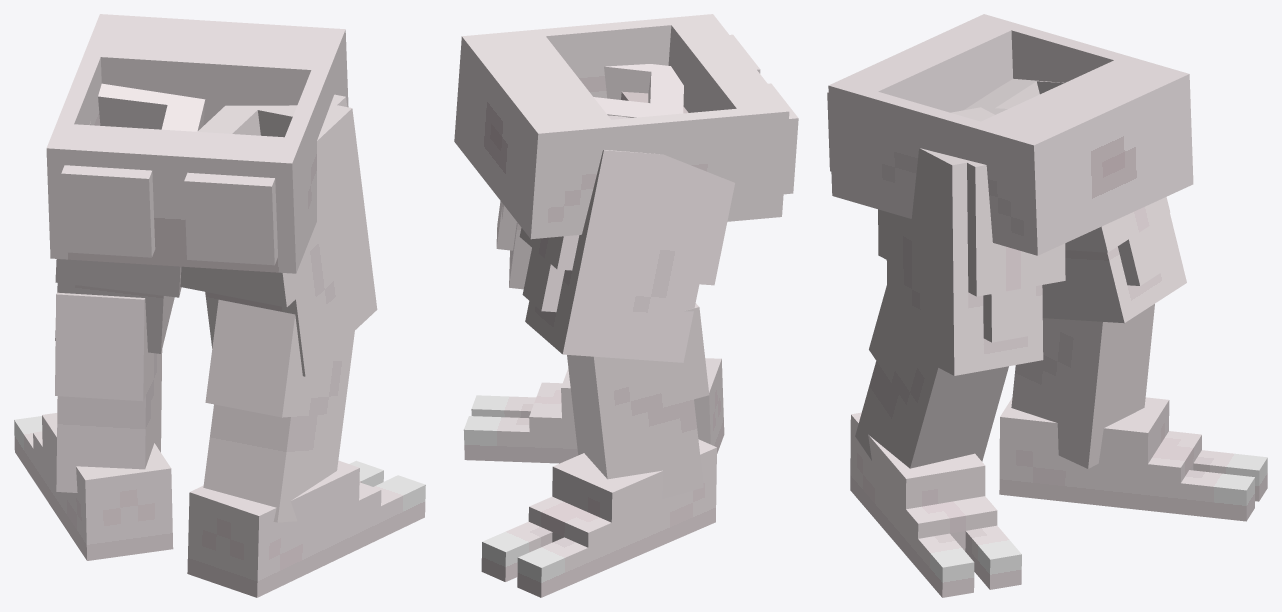
Rendered from 535d9eef-2d12-4f85-8e96-8515db8e4841.gltf.
The picture shows the model from 3 angles, left to right: view 1: azimuth 30°, elevation 25°; view 2: azimuth 150°, elevation 25°; view 3: azimuth 270°, elevation 25°; orthographic projection. The views are drawn at different scales.
Visible parts, largest first — view 1: Equip_Hip-Local, Equip_Right_Leg-Local, Equip_Right_Thigh-Local, Equip_Right_Foot-Local, Equip_Left_Leg-Local, Equip_Left_Foot-Local, Equip_Left_Thigh-Local; view 2: Equip_Hip-Local, Equip_Left_Thigh-Local, Equip_Left_Foot-Local, Equip_Left_Leg-Local, Equip_Right_Foot-Local, Equip_Right_Thigh-Local; view 3: Equip_Hip-Local, Equip_Right_Thigh-Local, Equip_Left_Foot-Local, Equip_Right_Foot-Local, Equip_Left_Leg-Local, Equip_Right_Leg-Local, Equip_Left_Thigh-Local.
Boxes of the visible parts, left/top/right/bottom form: Equip_Hip-Local: left=46, top=14, right=348, bottom=273; Equip_Right_Leg-Local: left=203, top=299, right=354, bottom=522; Equip_Right_Thigh-Local: left=180, top=94, right=377, bottom=376; Equip_Right_Foot-Local: left=187, top=460, right=425, bottom=597; Equip_Left_Leg-Local: left=55, top=292, right=162, bottom=492; Equip_Left_Foot-Local: left=14, top=413, right=173, bottom=560; Equip_Left_Thigh-Local: left=55, top=83, right=205, bottom=353; Equip_Hip-Local: left=454, top=14, right=798, bottom=239; Equip_Left_Thigh-Local: left=519, top=115, right=734, bottom=362; Equip_Left_Foot-Local: left=481, top=439, right=716, bottom=597; Equip_Left_Leg-Local: left=567, top=303, right=709, bottom=498; Equip_Right_Foot-Local: left=463, top=358, right=724, bottom=463; Equip_Right_Thigh-Local: left=496, top=64, right=683, bottom=289; Equip_Hip-Local: left=827, top=14, right=1193, bottom=255; Equip_Right_Thigh-Local: left=878, top=107, right=1065, bottom=375; Equip_Left_Foot-Local: left=999, top=397, right=1267, bottom=521; Equip_Right_Foot-Local: left=850, top=412, right=1021, bottom=597; Equip_Left_Leg-Local: left=1011, top=304, right=1154, bottom=468; Equip_Right_Leg-Local: left=855, top=285, right=1008, bottom=468; Equip_Left_Thigh-Local: left=964, top=78, right=1186, bottom=323.
Bounding box in the file's own units: 23.1 × 28.52 × 25.92.
7 materials, 7 textured.
